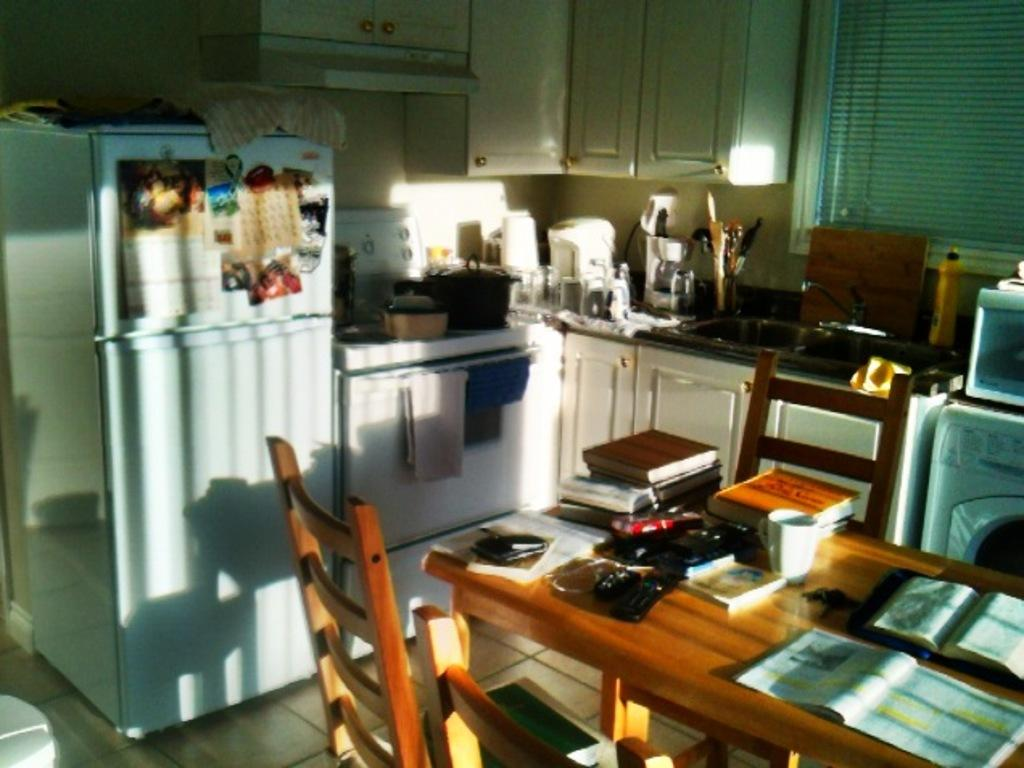cabinet_door: (646, 18, 732, 178), (470, 10, 552, 166), (561, 25, 636, 174), (648, 354, 750, 447), (572, 337, 639, 434), (270, 4, 374, 46), (379, 3, 459, 46)
handle: (466, 146, 492, 175), (702, 152, 730, 178), (614, 346, 638, 374), (558, 150, 588, 172), (377, 16, 399, 44), (354, 12, 376, 40), (735, 378, 761, 396)
